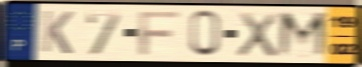0: (187, 9, 222, 60)
7: (84, 9, 123, 57)
F: (137, 10, 181, 57)
K: (39, 9, 76, 56)
M: (275, 10, 330, 61)
X: (235, 10, 279, 59)
